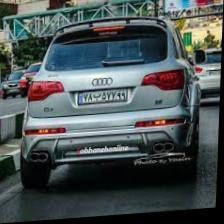plate: (75, 88, 131, 107), (208, 71, 220, 79)
